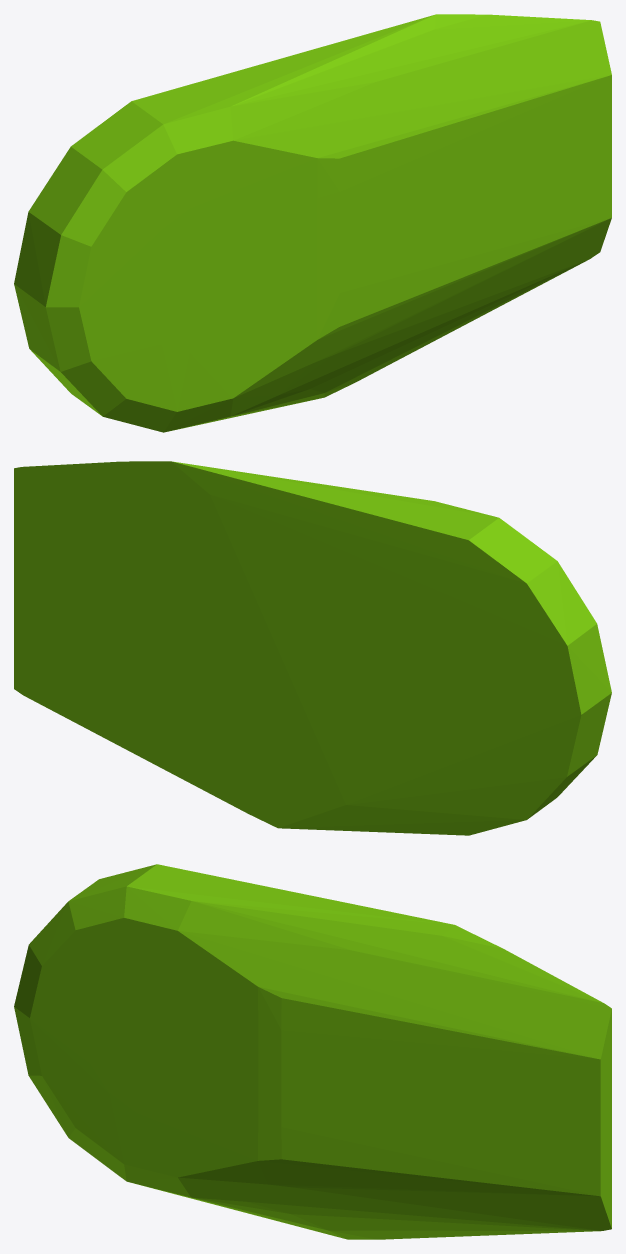
3 views of the same model, one above another, from view 1: azimuth 30°, elevation 25°; view 2: azimuth 150°, elevation 25°; view 3: azimuth 330°, elevation 25° (orthographic). The views are drawn at different scales.
Size of the model in its own units: 0.0233 by 0.0135 by 0.00297.
